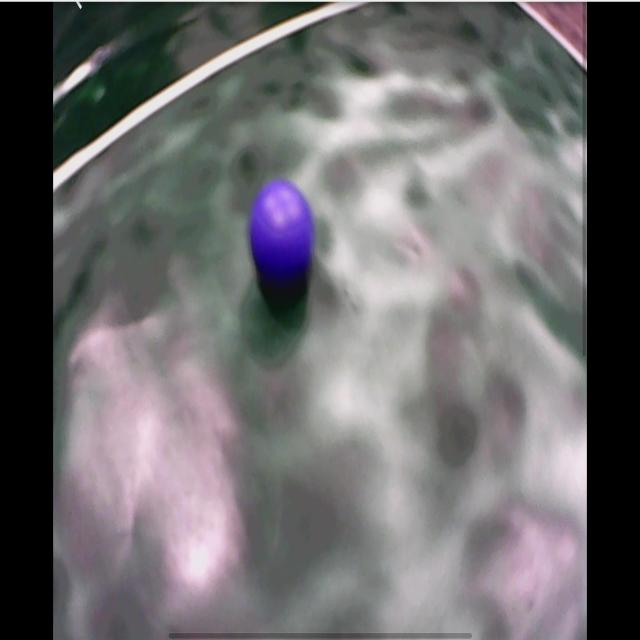ball: (254, 183, 312, 284)
